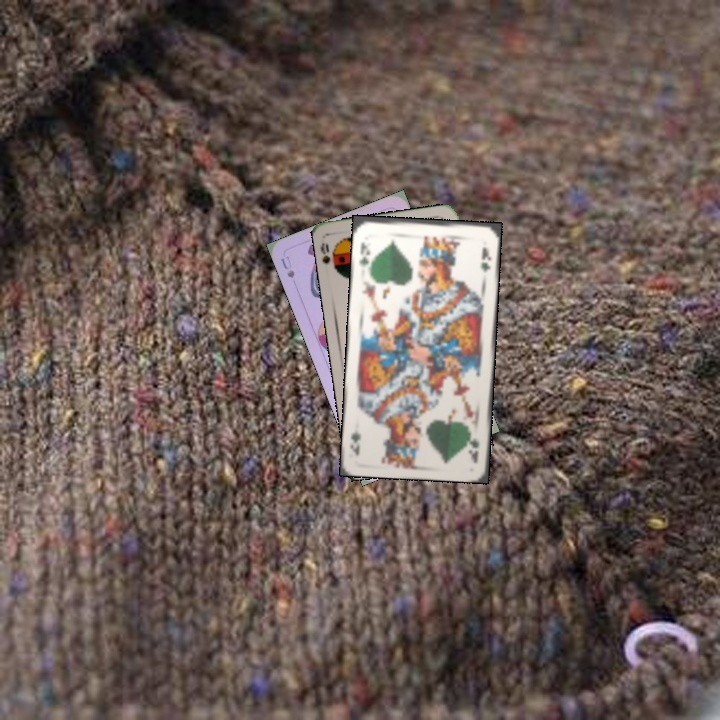GK: (465, 427, 481, 465), (355, 238, 373, 269)
SO: (317, 239, 341, 275)
SU: (277, 252, 297, 280)
